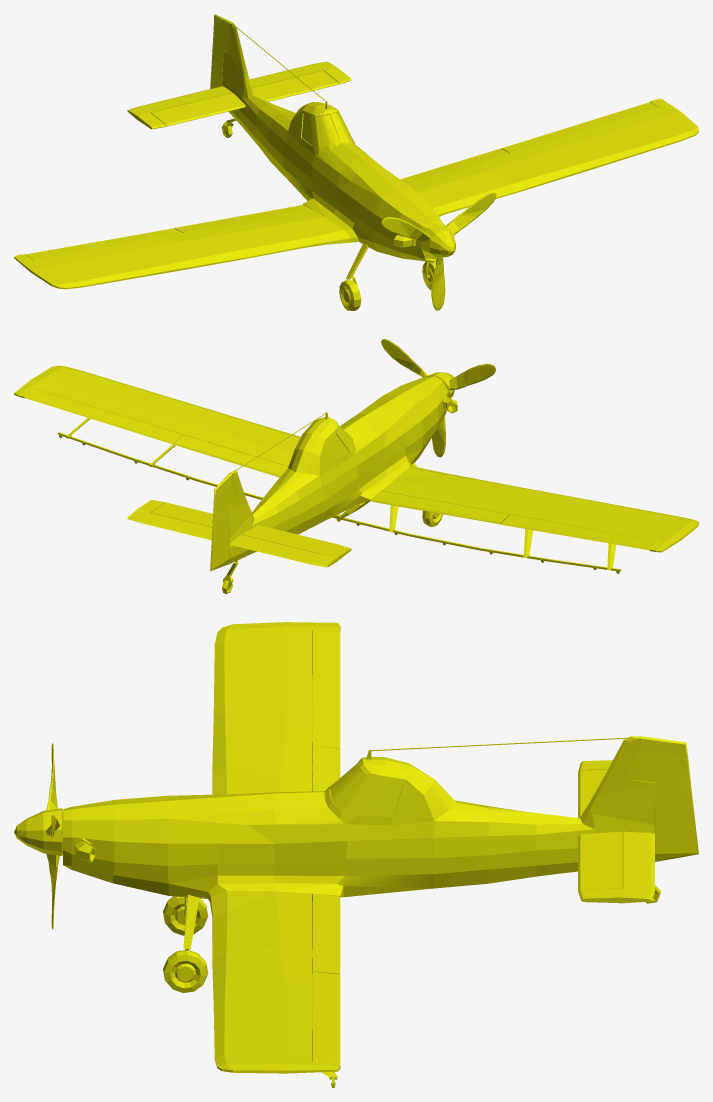
File: SM_Veh_Plane_Stunt_01.glb
3 renders of one model, top to bottom at view 1: azimuth 30°, elevation 25°; view 2: azimuth 150°, elevation 25°; view 3: azimuth 270°, elevation 25°, orthographic. The views are drawn at different scales.
Parts seen in each view (by area): view 1: SM_Veh_Plane_Stunt_01, SM_Veh_Plane_Stunt_01_Prop, SM_Veh_Plane_Stunt_01_Flap_Tail, SM_Veh_Plane_Stunt_01_Glass, SM_Veh_Plane_Stunt_01_Wheels; view 2: SM_Veh_Plane_Stunt_01, SM_Veh_Plane_Stunt_01_Crop_Duster, SM_Veh_Plane_Stunt_01_Prop, SM_Veh_Plane_Stunt_01_Flap_Tail; view 3: SM_Veh_Plane_Stunt_01, SM_Veh_Plane_Stunt_01_Flap_Tail, SM_Veh_Plane_Stunt_01_Wheels, SM_Veh_Plane_Stunt_01_Prop, SM_Veh_Plane_Stunt_01_Glass.
Boxes of the visible parts, bbox=[...] form: SM_Veh_Plane_Stunt_01: bbox=[14, 21, 698, 289]; SM_Veh_Plane_Stunt_01_Prop: bbox=[381, 192, 496, 310]; SM_Veh_Plane_Stunt_01_Flap_Tail: bbox=[210, 14, 233, 88]; SM_Veh_Plane_Stunt_01_Glass: bbox=[302, 112, 351, 147]; SM_Veh_Plane_Stunt_01_Wheels: bbox=[339, 261, 436, 310]; SM_Veh_Plane_Stunt_01: bbox=[14, 365, 698, 593]; SM_Veh_Plane_Stunt_01_Crop_Duster: bbox=[58, 418, 621, 573]; SM_Veh_Plane_Stunt_01_Prop: bbox=[381, 339, 495, 457]; SM_Veh_Plane_Stunt_01_Flap_Tail: bbox=[210, 473, 236, 570]; SM_Veh_Plane_Stunt_01: bbox=[63, 622, 660, 1073]; SM_Veh_Plane_Stunt_01_Flap_Tail: bbox=[629, 736, 698, 861]; SM_Veh_Plane_Stunt_01_Wheels: bbox=[163, 896, 208, 992]; SM_Veh_Plane_Stunt_01_Prop: bbox=[14, 743, 63, 929]; SM_Veh_Plane_Stunt_01_Glass: bbox=[330, 765, 402, 815].
Bounding box in the file's own units: 14.83 × 3.5 × 9.56.
1 material, 1 textured.
